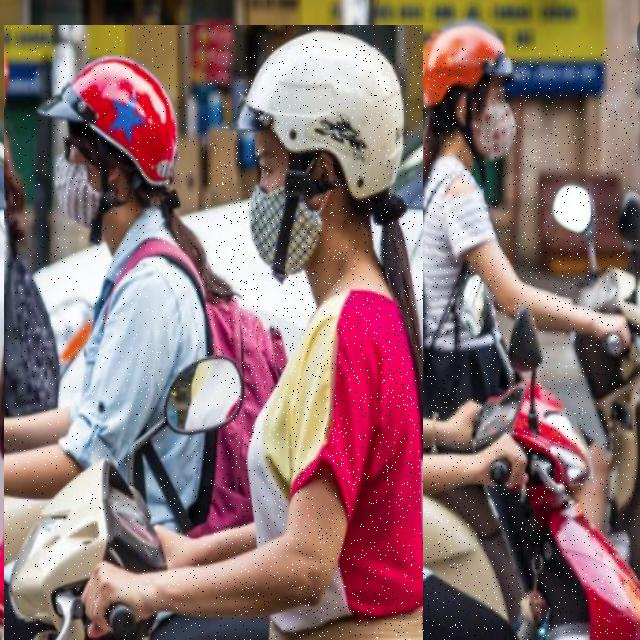With Helmet: (4, 25, 423, 640), (214, 46, 639, 640)
